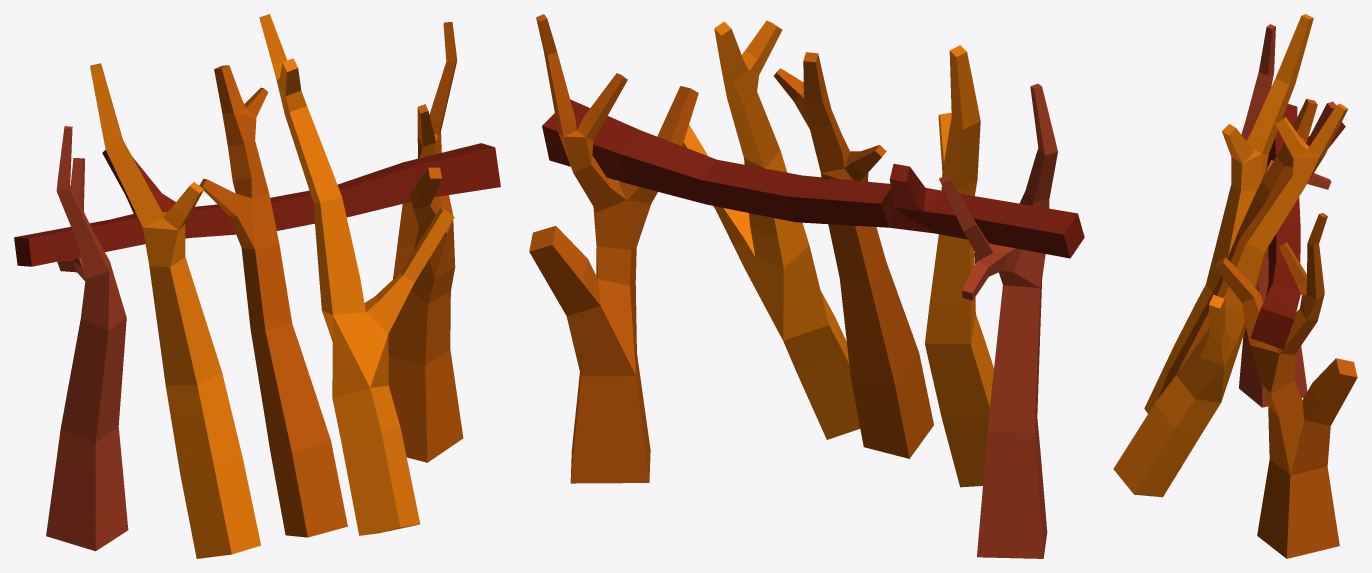
Rendered from Wall Trunk-Fence_03.fbx.
The picture shows the model from 3 angles, left to right: view 1: azimuth 30°, elevation 25°; view 2: azimuth 150°, elevation 25°; view 3: azimuth 270°, elevation 25°; orthographic projection. The views are drawn at different scales.
Parts seen in each view (by area): view 1: Trunk-Fence_03; view 2: Trunk-Fence_03; view 3: Trunk-Fence_03.
Part boxes in pixels (box(x1,y1,x2,y2)): Trunk-Fence_03: box(14, 14, 500, 558); Trunk-Fence_03: box(529, 14, 1084, 558); Trunk-Fence_03: box(1113, 14, 1357, 558).
Bounding box in the file's own units: 320 × 300 × 167.
